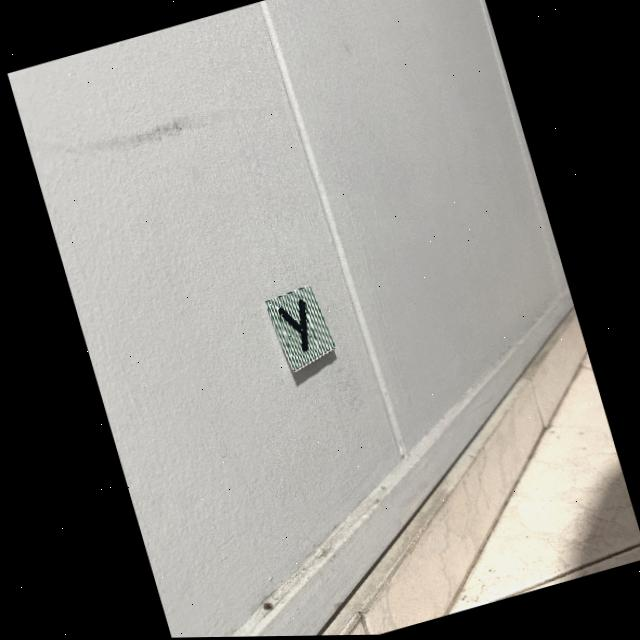Y: (277, 300, 307, 353)
